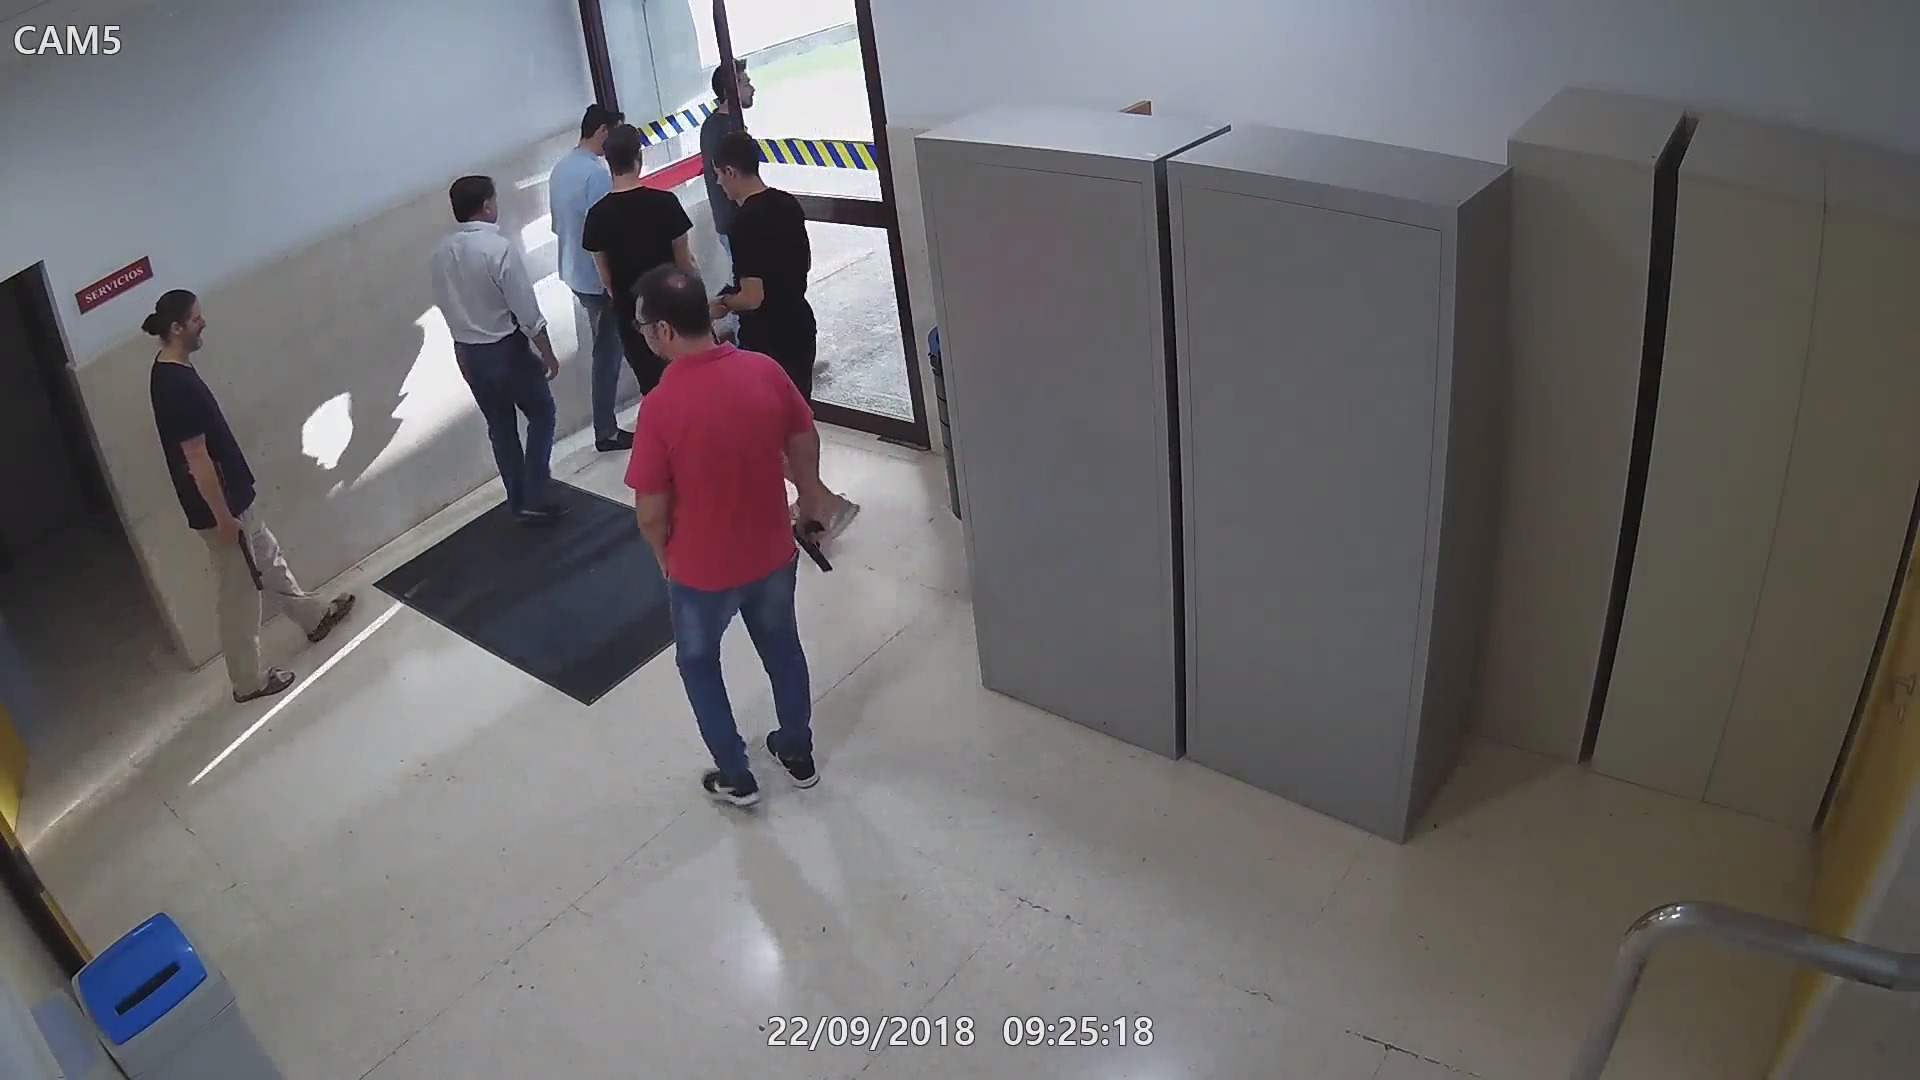pistol: (793, 508, 837, 575), (707, 273, 742, 320)
rifle: (219, 518, 268, 593)
